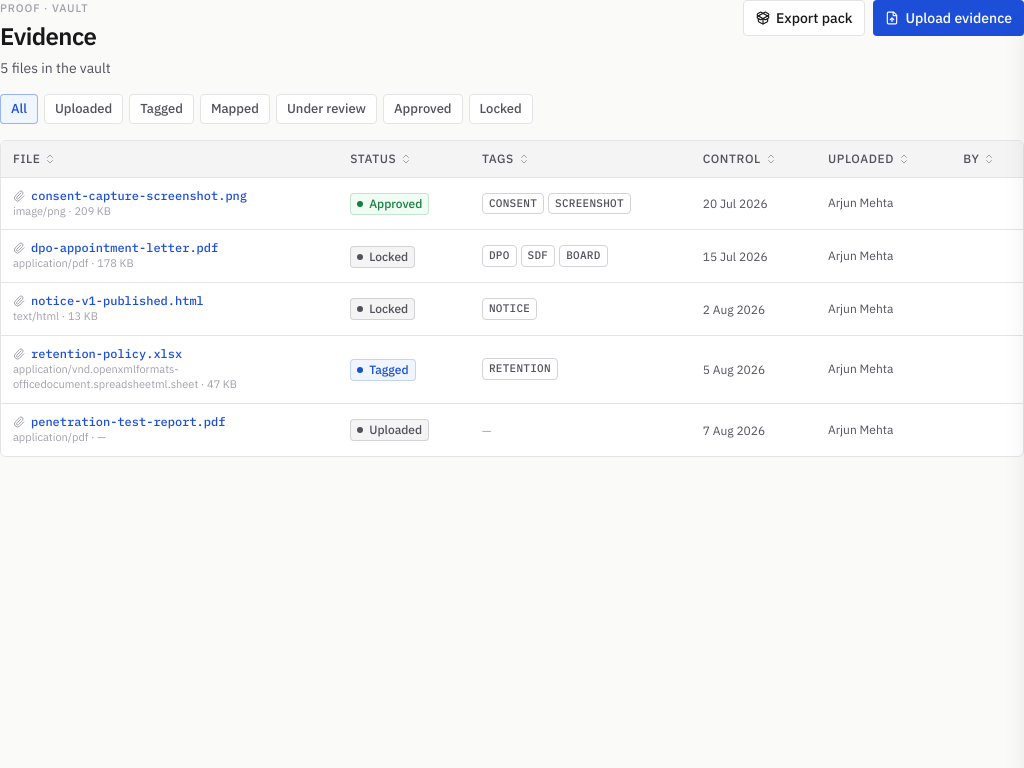
Test: EvidenceView (§9.10) › shows no action menu on a locked file
Click the text "dpo-appointment-letter.pdf": (125,248) [31,240,218,256]
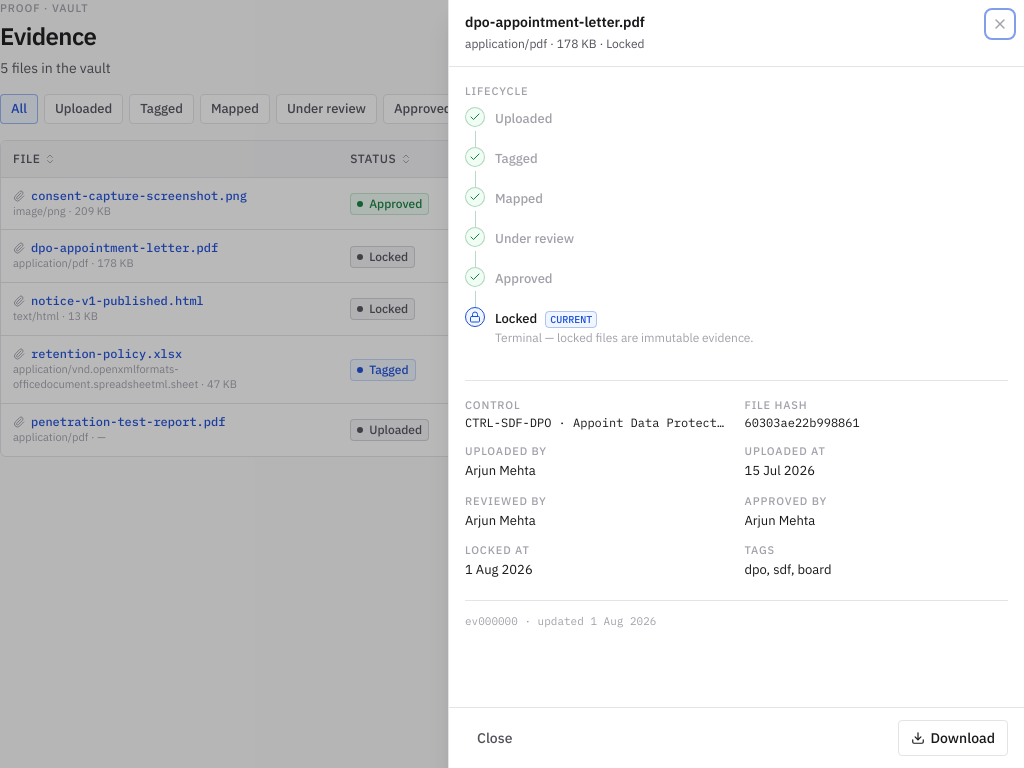
Now the text "Locked" is shown, box [495,310,537,326]
Now the button "Download" is shown, box [898,720,1008,756]
